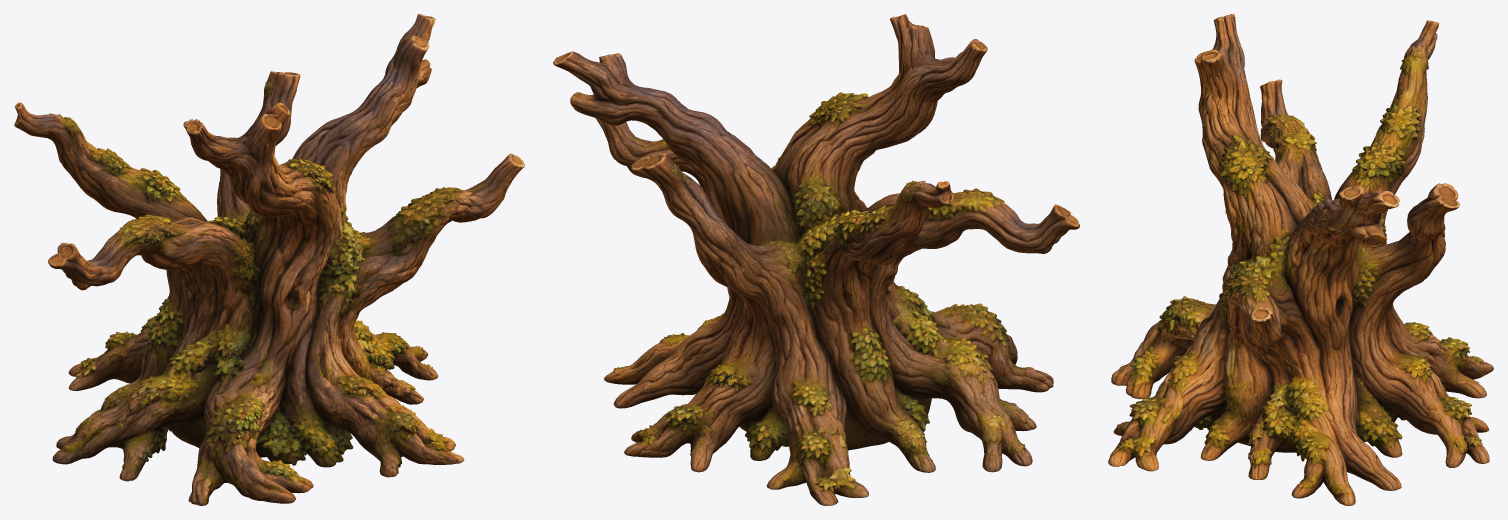
File: giant_tree.glb
The picture shows the model from 3 angles, left to right: view 1: azimuth 30°, elevation 25°; view 2: azimuth 150°, elevation 25°; view 3: azimuth 270°, elevation 25°; orthographic projection. The views are drawn at different scales.
Parts seen in each view (by area): view 1: tripo_node_74e9de91-6e83-4b93-b056-26a95f88b675; view 2: tripo_node_74e9de91-6e83-4b93-b056-26a95f88b675; view 3: tripo_node_74e9de91-6e83-4b93-b056-26a95f88b675.
Boxes of the visible parts, left/top/right/bottom form: tripo_node_74e9de91-6e83-4b93-b056-26a95f88b675: left=14, top=14, right=524, bottom=505; tripo_node_74e9de91-6e83-4b93-b056-26a95f88b675: left=553, top=14, right=1079, bottom=505; tripo_node_74e9de91-6e83-4b93-b056-26a95f88b675: left=1108, top=14, right=1493, bottom=505.
Bounding box in the file's own units: 18.11 × 13 × 12.92.
1 material, 1 textured.
